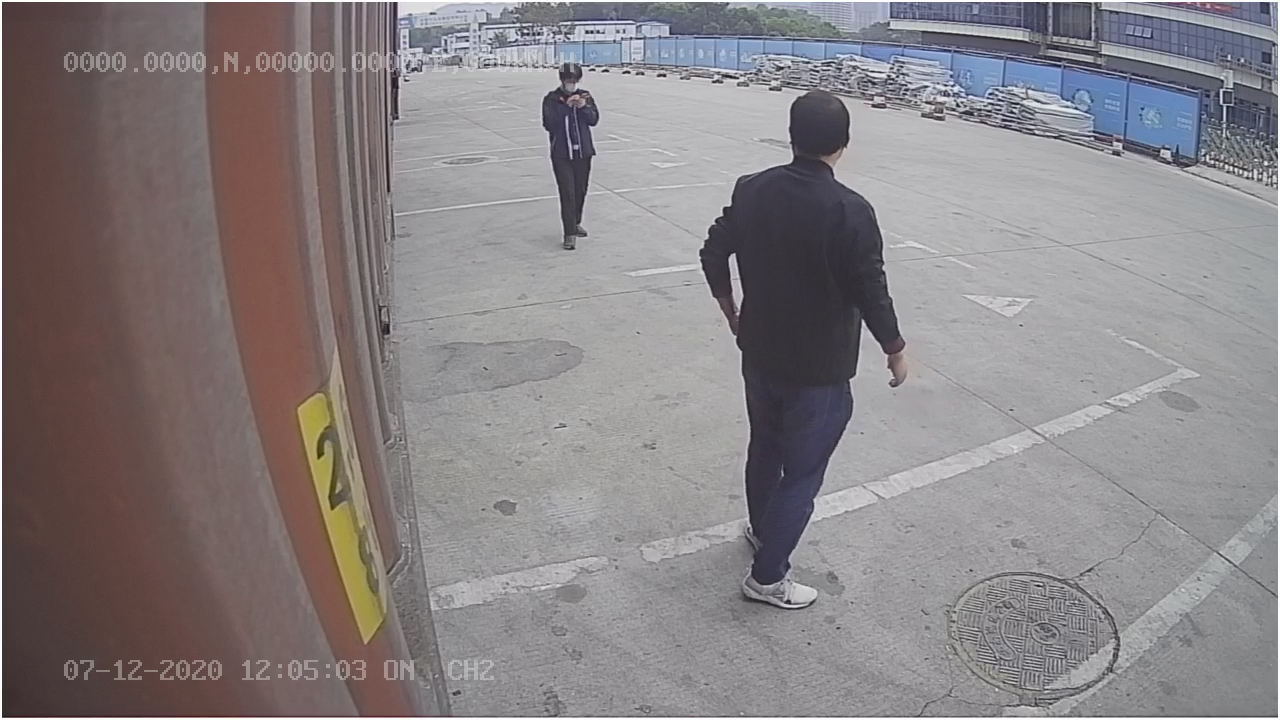person: (694, 79, 914, 617)
